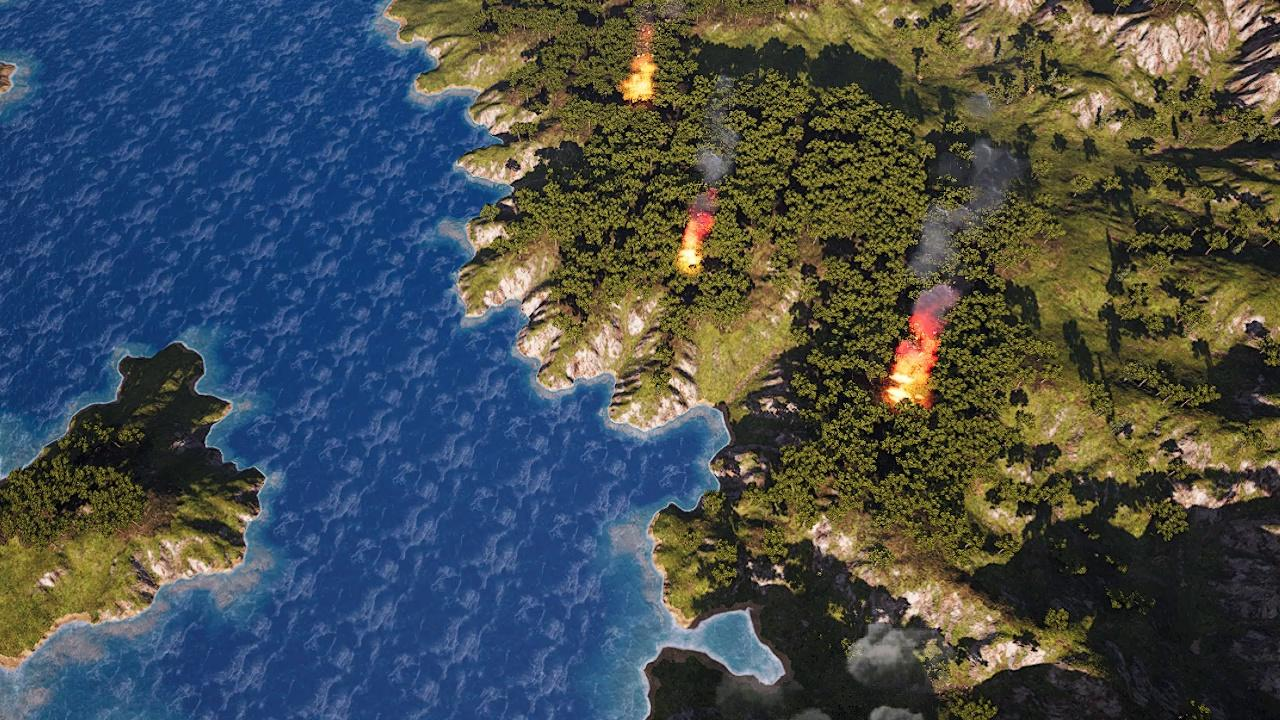fire: (884, 320, 946, 407), (624, 53, 659, 100), (677, 222, 710, 266)
smoke: (894, 127, 1026, 321), (684, 74, 740, 236), (843, 617, 927, 681)
